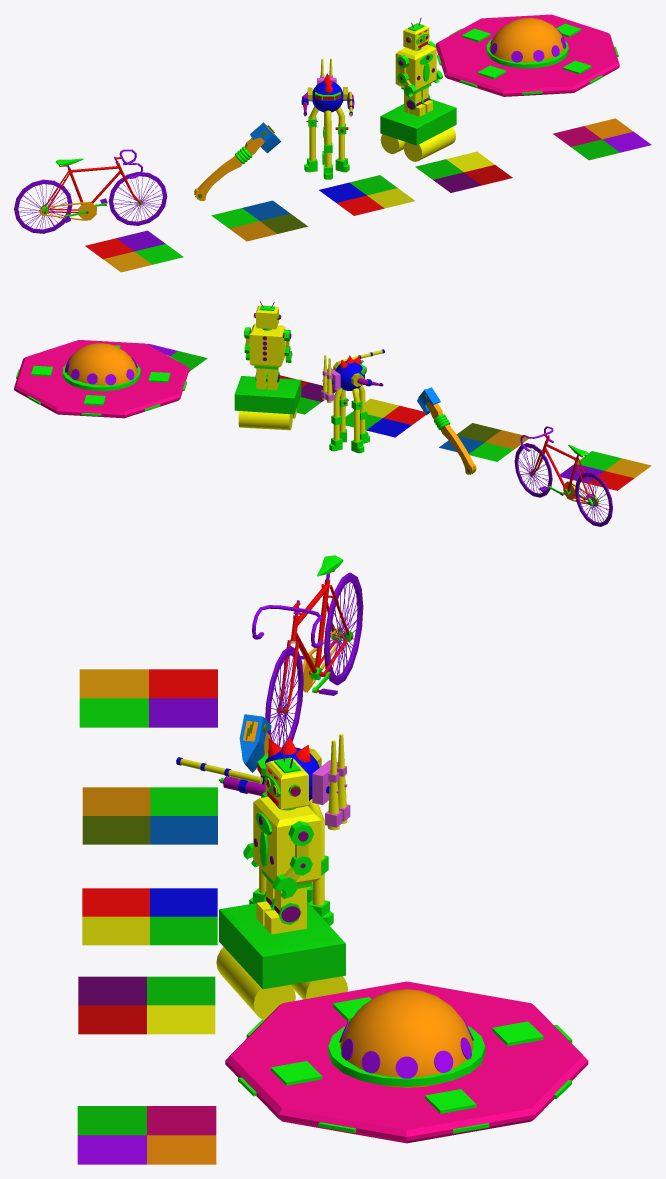
3 views of the same model, one above another, from view 1: azimuth 30°, elevation 25°; view 2: azimuth 150°, elevation 25°; view 3: azimuth 270°, elevation 25° (orthographic). The views are drawn at different scales.
Parts seen in each view (by area): view 1: polySurface115, polySurface5, polySurface123, polySurface73, object 5, bike:pPlane1, object 4, object 2, object 3, polySurface83; view 2: polySurface115, polySurface5, polySurface73, polySurface123, bike:pPlane1, object 2, object 3, polySurface83, object 4, object 5; view 3: polySurface115, polySurface5, object 5, bike:pPlane1, object 4, polySurface123, object 2, object 3, polySurface73, polySurface83.
Part boxes in pixels (x1,y1,x2,y2): polySurface115: (435,14,619,96); polySurface5: (380,18,456,161); polySurface123: (14,149,167,233); polySurface73: (301,58,354,179); object 5: (553,118,651,160); bike:pPlane1: (85,230,183,272); object 4: (415,151,512,192); object 2: (211,200,307,241); object 3: (319,175,414,215); polySurface83: (194,122,280,200); polySurface115: (14,340,189,418); polySurface5: (234,301,301,430); polySurface73: (321,349,384,453); polySurface123: (514,426,612,526); bike:pPlane1: (560,451,651,490); object 2: (439,423,528,461); object 3: (345,398,425,437); polySurface83: (417,387,476,474); object 4: (279,375,336,414); object 5: (147,343,207,371); polySurface115: (225,981,588,1143); polySurface5: (216,747,347,1020); object 5: (77,1106,216,1164); bike:pPlane1: (79,669,217,727); object 4: (78,976,215,1034); polySurface123: (252,555,363,747); object 2: (82,787,217,844); object 3: (82,888,217,945); polySurface73: (176,734,350,925); polySurface83: (239,714,273,772).
Size of the model in its own units: 0.3949 by 0.0851 by 0.151.
